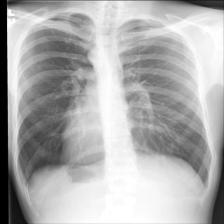normal: (14, 9, 215, 194)
